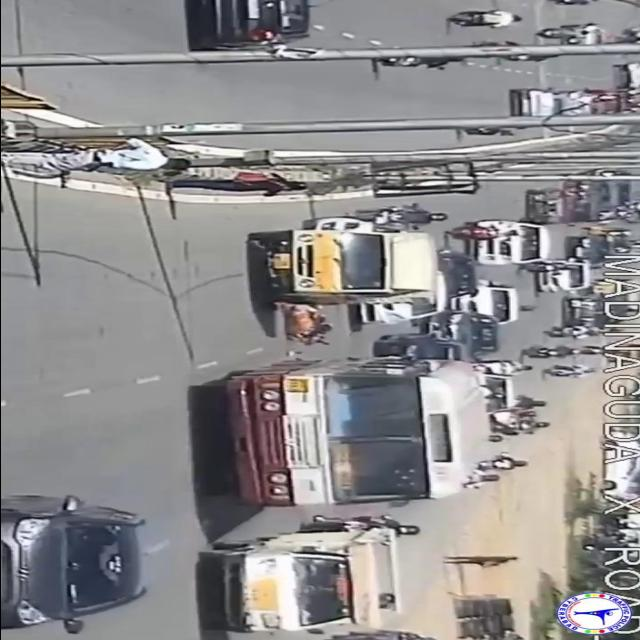accident: (241, 223, 455, 351)
non_accident: (446, 169, 638, 323), (497, 58, 639, 118)
